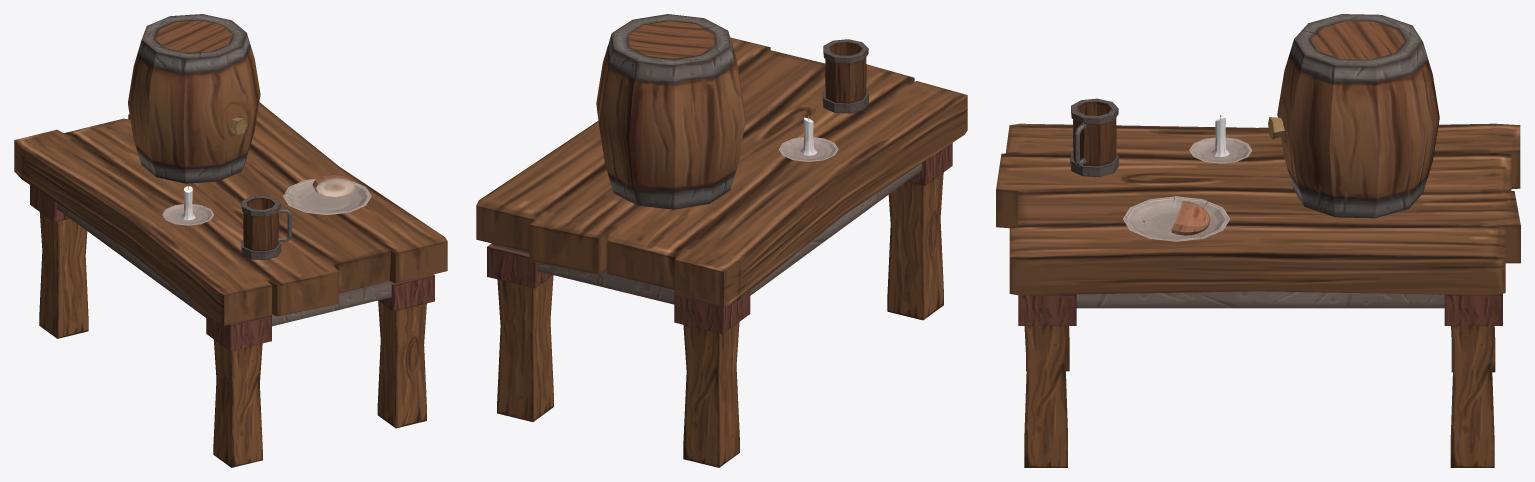
The model's file is mesa.fbx.
The picture shows the model from 3 angles, left to right: view 1: azimuth 30°, elevation 25°; view 2: azimuth 150°, elevation 25°; view 3: azimuth 270°, elevation 25°; orthographic projection. The views are drawn at different scales.
Visible parts, largest first — view 1: pCube1, pCylinder1, pCube7, pCube5, pCube8, pCube2, pCylinder2, pCylinder8, pSphere1, pCylinder5; view 2: pCube1, pCylinder1, pCube8, pCube6, pCube7, pCube2, pCylinder2, pCylinder5; view 3: pCube1, pCylinder1, pCube6, pCube5, pCube2, pCylinder2, pCylinder8, pCylinder5, pSphere1.
Part boxes in pixels (x1,y1,x2,y2): pCube1: (14, 102, 447, 325); pCylinder1: (128, 14, 260, 183); pCube7: (206, 314, 271, 467); pCube5: (377, 274, 434, 428); pCube8: (30, 185, 88, 338); pCube2: (56, 203, 394, 326); pCylinder2: (241, 195, 281, 259); pCylinder8: (283, 179, 371, 214); pSphere1: (312, 174, 355, 196); pCylinder5: (162, 204, 214, 225); pCube1: (476, 37, 967, 307); pCylinder1: (596, 14, 745, 209); pCube8: (674, 291, 750, 467); pCube6: (487, 243, 553, 421); pCube7: (887, 143, 952, 320); pCube2: (492, 163, 921, 304); pCylinder2: (822, 39, 868, 113); pCylinder5: (778, 137, 838, 161); pCube1: (996, 123, 1520, 295); pCylinder1: (1277, 14, 1439, 218); pCube6: (1444, 293, 1502, 467); pCube5: (1018, 294, 1076, 467); pCube2: (1076, 291, 1444, 308); pCylinder2: (1070, 98, 1118, 176); pCylinder8: (1123, 196, 1229, 241); pCylinder5: (1189, 137, 1252, 163); pSphere1: (1171, 201, 1210, 235).
Bounding box in the file's own units: 23.95 × 31.08 × 39.78.
